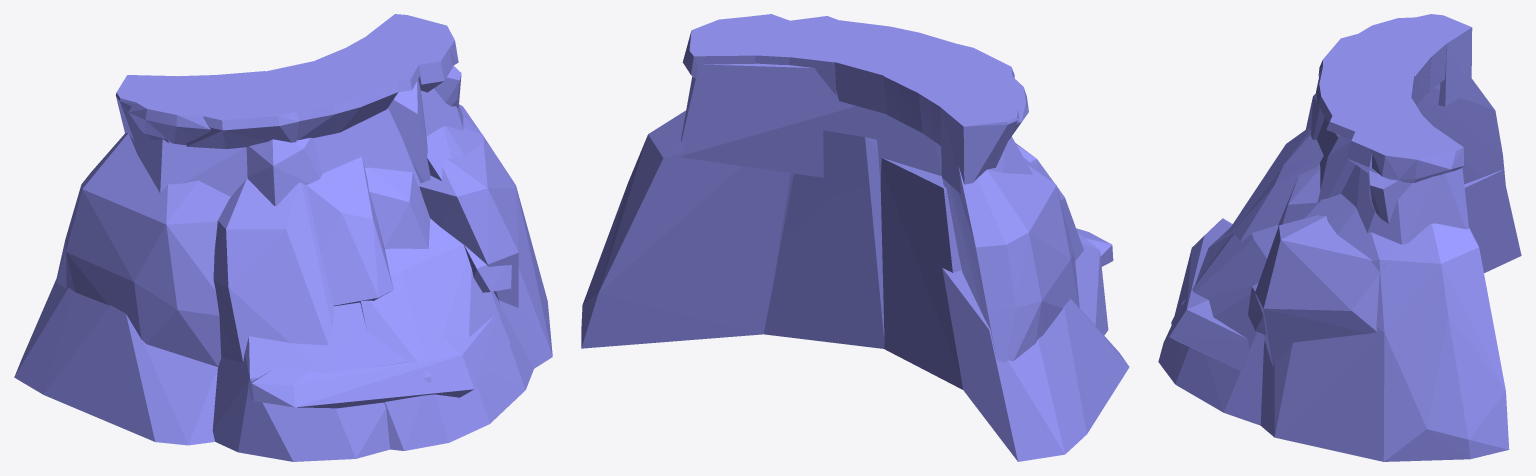
Rendered from Cliff_Wall_01_Taper_Collider_01.FBX.
3 renders of one model, left to right at view 1: azimuth 30°, elevation 25°; view 2: azimuth 150°, elevation 25°; view 3: azimuth 270°, elevation 25°, orthographic. The views are drawn at different scales.
Visible parts, largest first — view 1: COLLIDER12, COLLIDER10, COLLIDER8, COLLIDER15, COLLIDER9, COLLIDER16, COLLIDER14, COLLIDER17, COLLIDER1, COLLIDER11, COLLIDER5, COLLIDER13 (+11 smaller); view 2: COLLIDER11, COLLIDER8, COLLIDER13, COLLIDER10, COLLIDER12, COLLIDER9, COLLIDER1, COLLIDER5, COLLIDER7, COLLIDER6, COLLIDER3, COLLIDER2 (+3 smaller); view 3: COLLIDER11, COLLIDER14, COLLIDER8, COLLIDER13, COLLIDER12, COLLIDER16, COLLIDER10, COLLIDER1, COLLIDER3, COLLIDER5, COLLIDER17, COLLIDER7 (+10 smaller).
Part boxes in pixels (x1,y1,x2,y2): COLLIDER12: (56, 133, 230, 366); COLLIDER10: (14, 278, 217, 445); COLLIDER8: (360, 218, 533, 450); COLLIDER15: (213, 179, 334, 362); COLLIDER9: (212, 298, 408, 461); COLLIDER16: (248, 315, 510, 408); COLLIDER14: (419, 135, 518, 307); COLLIDER17: (306, 156, 393, 306); COLLIDER1: (260, 60, 398, 140); COLLIDER11: (426, 104, 552, 368); COLLIDER5: (186, 71, 298, 148); COLLIDER13: (313, 88, 463, 194); COLLIDER11: (581, 110, 793, 348); COLLIDER8: (764, 130, 884, 348); COLLIDER13: (680, 63, 941, 184); COLLIDER10: (942, 268, 1129, 461); COLLIDER12: (934, 141, 1079, 362); COLLIDER9: (880, 158, 1108, 389); COLLIDER1: (835, 20, 956, 114); COLLIDER5: (883, 44, 1014, 132); COLLIDER7: (940, 102, 1018, 193); COLLIDER6: (918, 75, 1028, 145); COLLIDER3: (682, 17, 755, 78); COLLIDER2: (782, 16, 838, 95); COLLIDER11: (1260, 194, 1509, 461); COLLIDER14: (1255, 215, 1385, 366); COLLIDER8: (1158, 225, 1278, 425); COLLIDER13: (1317, 117, 1468, 244); COLLIDER12: (1416, 70, 1505, 184); COLLIDER16: (1169, 218, 1248, 370); COLLIDER10: (1464, 170, 1521, 273); COLLIDER1: (1316, 66, 1414, 137); COLLIDER3: (1370, 127, 1463, 182); COLLIDER5: (1318, 34, 1431, 105); COLLIDER17: (1233, 135, 1323, 241); COLLIDER7: (1417, 14, 1472, 106).
Size of the model in its own units: 1170 by 661 by 823.
